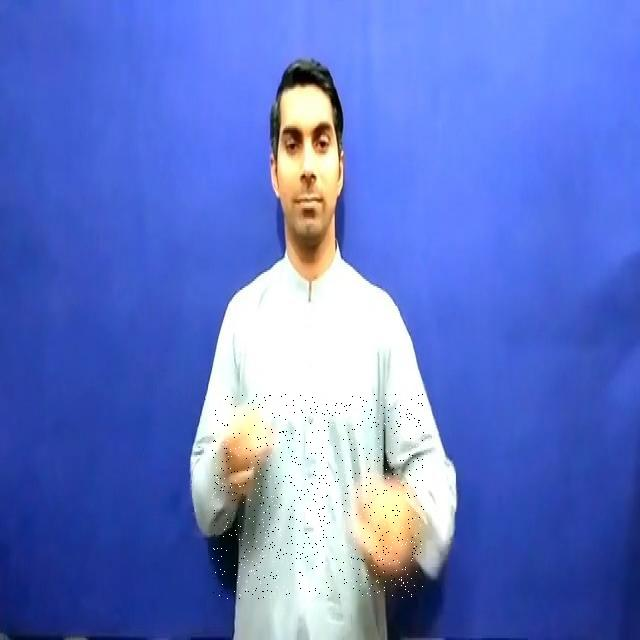manager: (212, 394, 424, 599)
